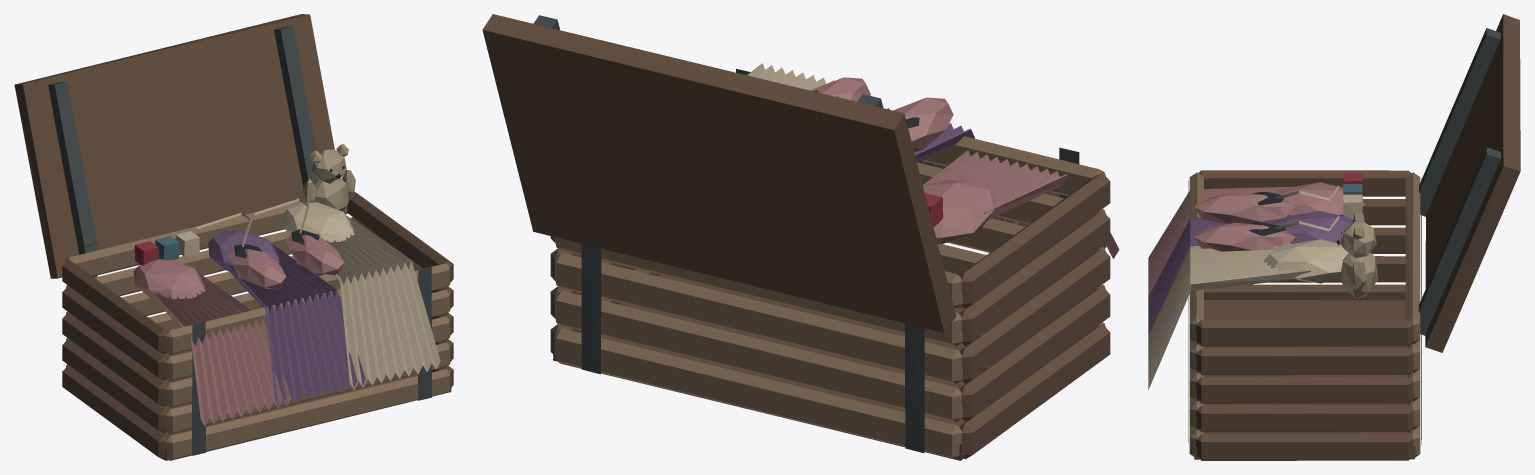
Rendered from lili_memory_chest.glb.
3 views of the same model, side by side, from view 1: azimuth 30°, elevation 25°; view 2: azimuth 150°, elevation 25°; view 3: azimuth 270°, elevation 25° (orthographic). The views are drawn at different scales.
Visible parts, largest first — view 1: lili_memory_chest; view 2: lili_memory_chest; view 3: lili_memory_chest.
Part boxes in pixels (x1,y1,x2,y2): lili_memory_chest: (14, 14, 453, 460); lili_memory_chest: (482, 14, 1119, 460); lili_memory_chest: (1148, 14, 1520, 460).
Bounding box in the file's own units: 1.23 × 1.09 × 1.24.
